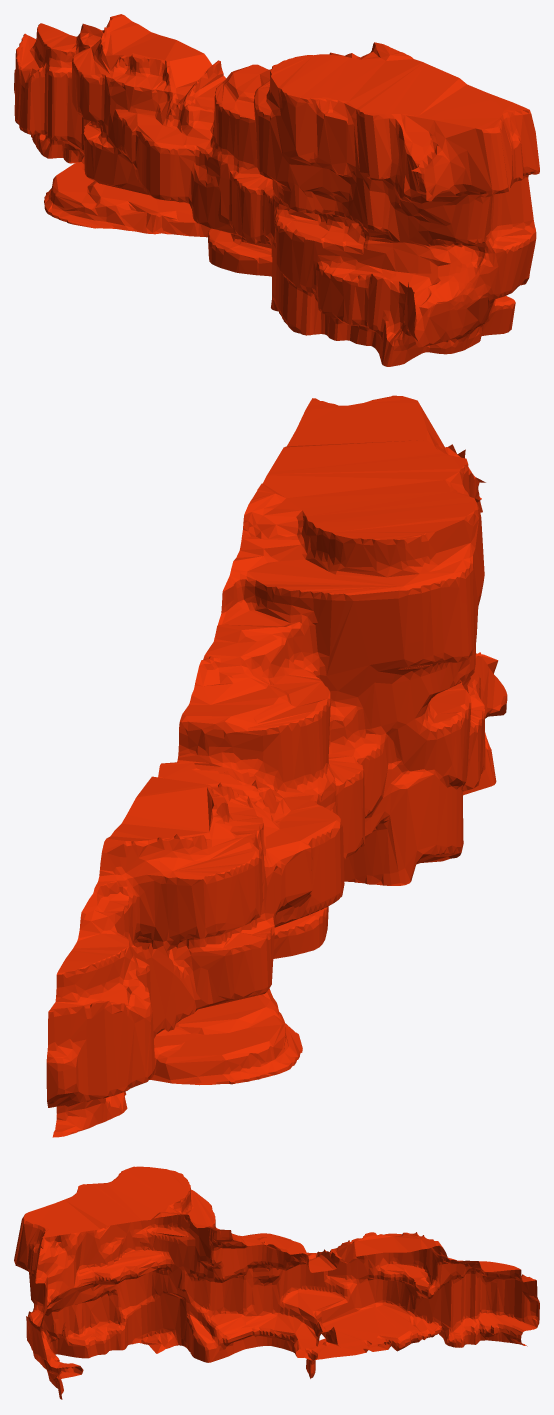
Rendered from canyon_rock_wall_04.fbx.
The picture shows the model from 3 angles, top to bottom: view 1: azimuth 30°, elevation 25°; view 2: azimuth 150°, elevation 25°; view 3: azimuth 270°, elevation 25°; orthographic projection. The views are drawn at different scales.
Visible parts, largest first — view 1: Circle.013; view 2: Circle.013; view 3: Circle.013.
Part boxes in pixels (bbox=[...]): Circle.013: bbox=[14, 14, 539, 366]; Circle.013: bbox=[46, 395, 507, 1137]; Circle.013: bbox=[14, 1166, 539, 1399].
Size of the model in its own units: 3499 by 3627 by 9336.
